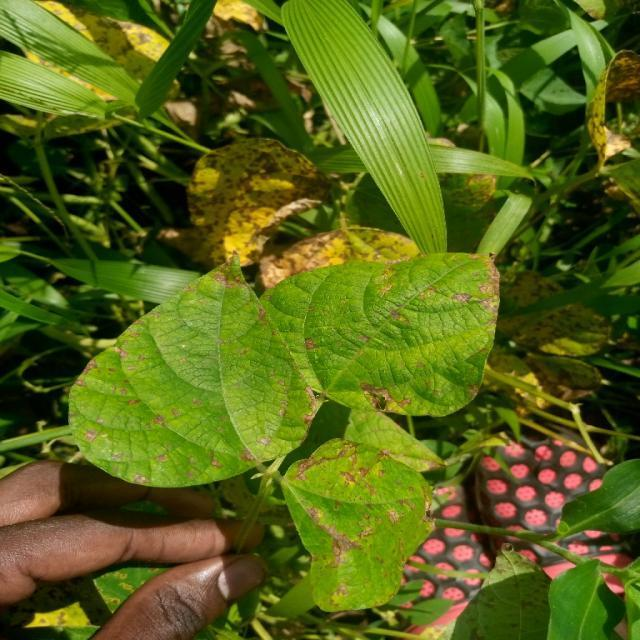hawar: (50, 352, 264, 492), (287, 254, 477, 396), (286, 438, 408, 598)
